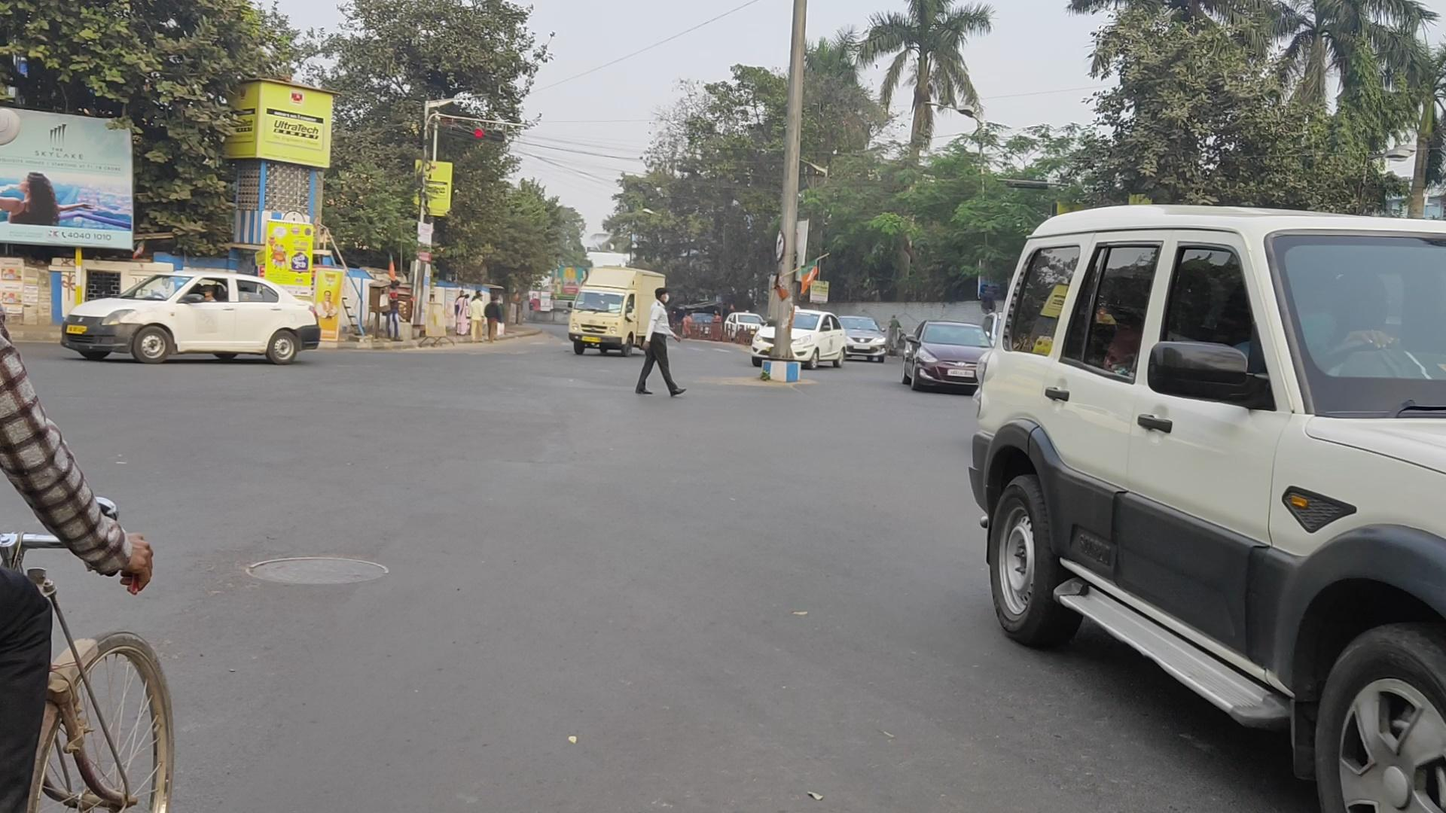car: (972, 202, 1446, 813), (61, 271, 322, 365), (901, 319, 993, 394), (751, 309, 847, 371), (837, 315, 886, 364), (724, 312, 766, 344)
van: (567, 266, 667, 357)
